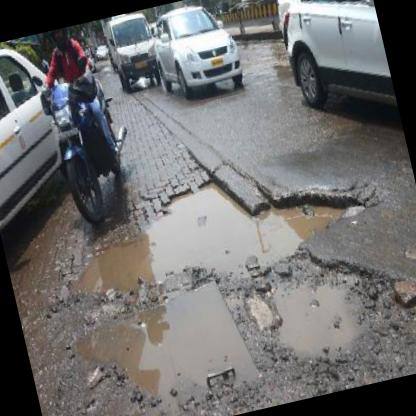pothole: (56, 136, 379, 304), (64, 267, 264, 416), (252, 237, 390, 370)
